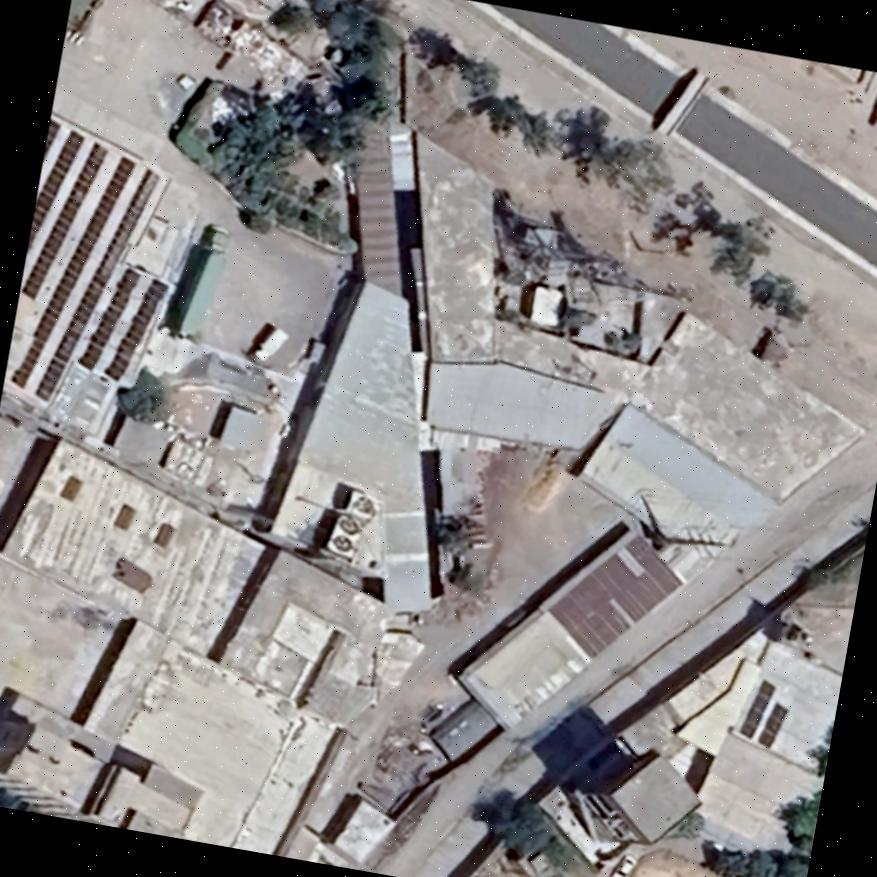Solarpanel: (32, 165, 161, 403), (8, 153, 136, 389), (19, 136, 110, 300), (27, 125, 84, 251), (75, 262, 141, 370), (103, 275, 170, 381), (737, 677, 776, 740), (756, 698, 790, 747), (44, 112, 61, 161)
